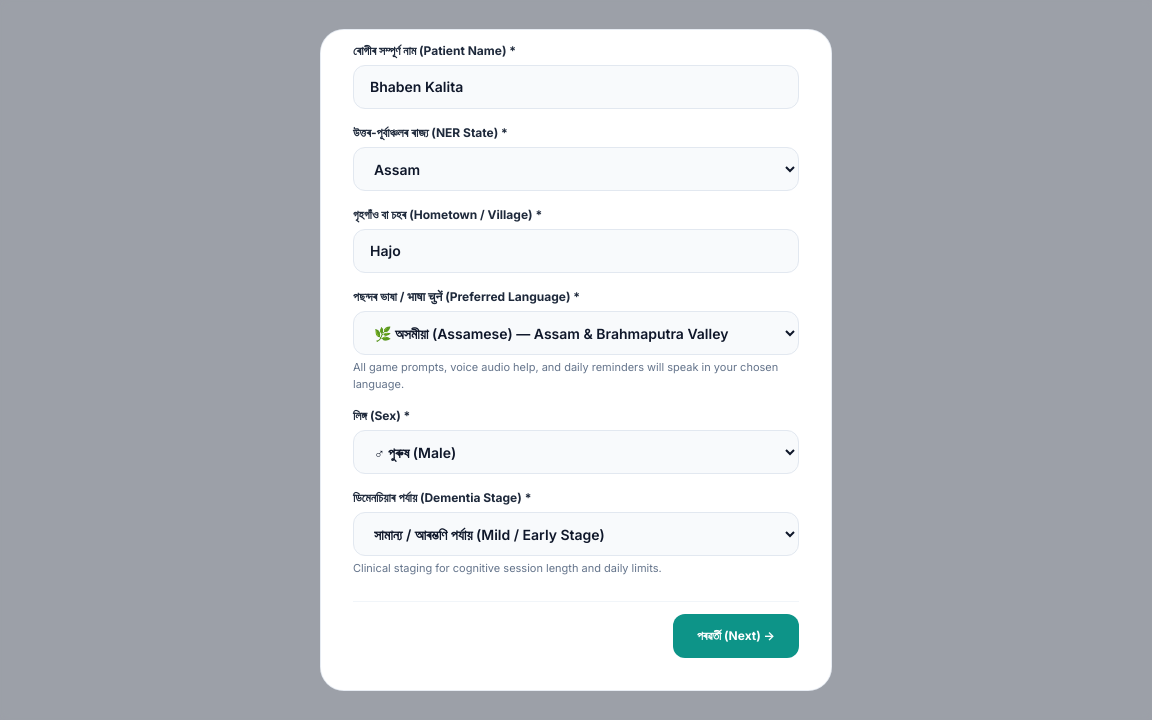
Test: Navigation Audit: Anti-Dead-End & Touch Target Compliance › 2. PatientOnboardingModal Multi-Step Navigation & State Preservation › Step navigation preserves entered form data across backward and forward movement
The image size is (1152, 720).
(page scrolled)
Expected: the field labelled "ৰোগীৰ সম্পূৰ্ণ নাম (Patient Name) *" holds "Bhaben Kalita", x1=353 y1=65 x2=799 y2=109
Note: Move forward to Step 2
Click the button "পৰৱৰ্তী (Next) →" at (736, 636), box x1=673 y1=614 x2=799 y2=658
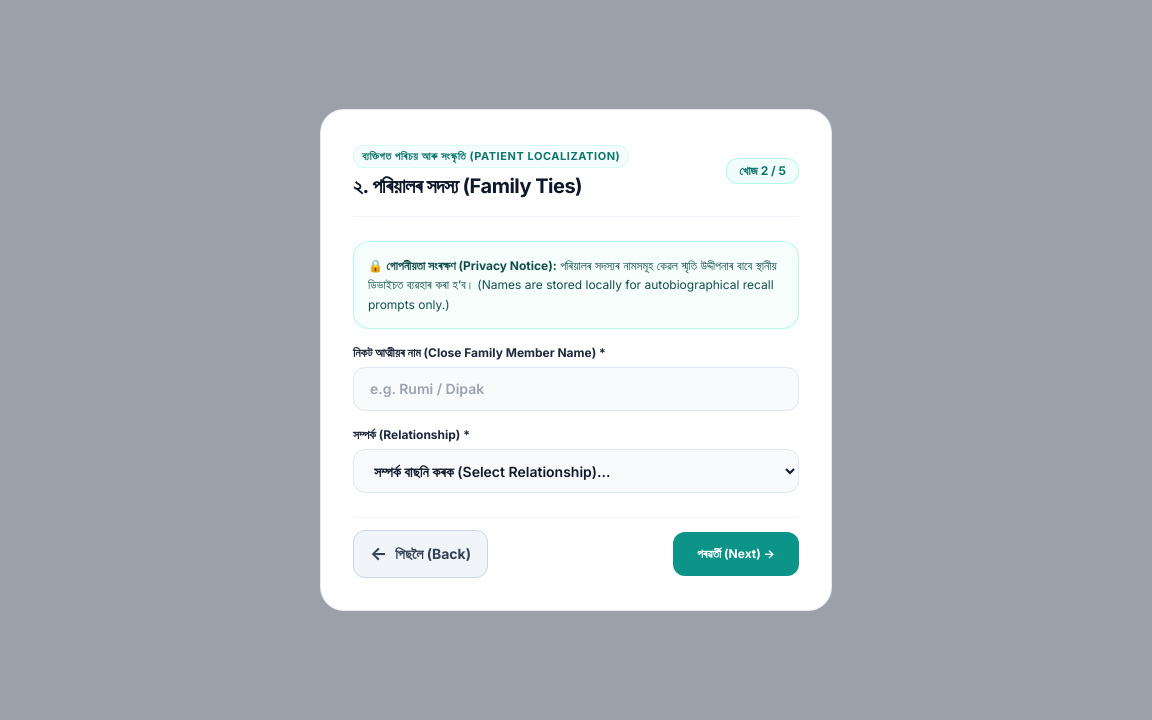
Expected: the heading "২. পৰিয়ালৰ সদস্য (Family Ties)" is shown, x1=353 y1=174 x2=582 y2=198
Note: Enter data in Step 2
Type "Rumi Kalita" into the field labelled "নিকট আত্মীয়ৰ নাম (Close Family Member Name) *" at (576, 389), box x1=353 y1=367 x2=799 y2=411
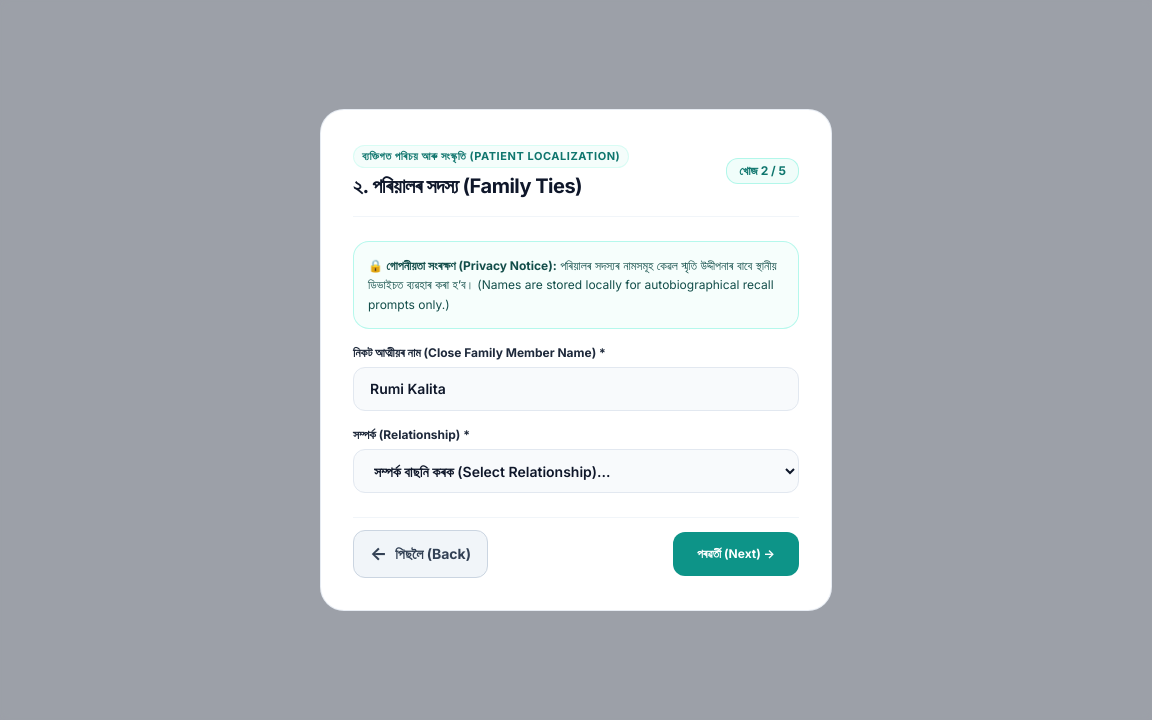
Click the button with aria-label "Go back" at (420, 554), box x1=353 y1=530 x2=488 y2=578
(page scrolled)
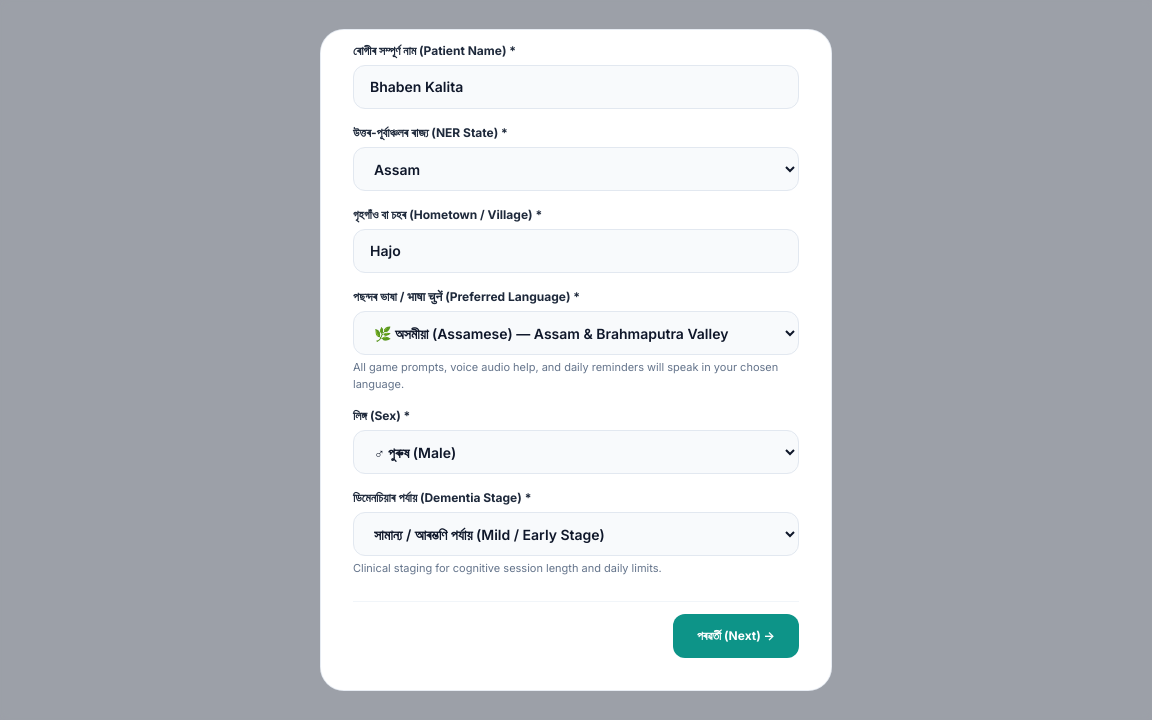
Expected: the field labelled "ৰোগীৰ সম্পূৰ্ণ নাম (Patient Name) *" holds "Bhaben Kalita", x1=353 y1=65 x2=799 y2=109
Note: Return to Step 2: Step 2 data is preserved
Click the button "পৰৱৰ্তী (Next) →" at (736, 636), box x1=673 y1=614 x2=799 y2=658
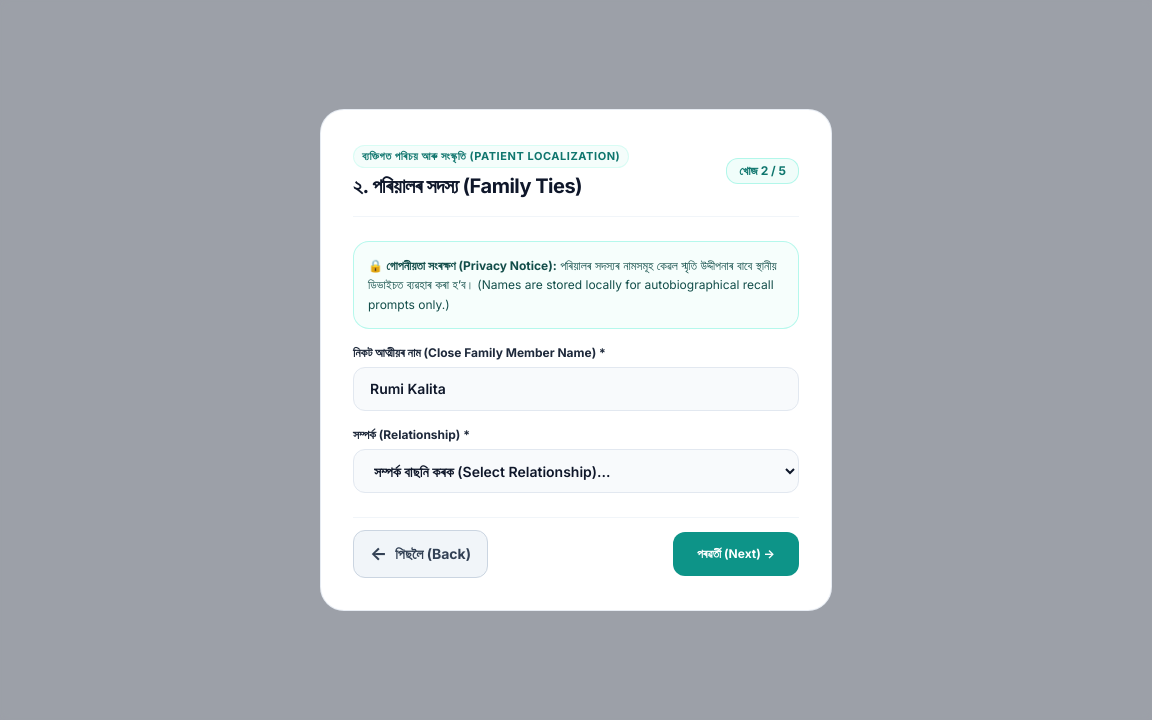
Expected: the heading "২. পৰিয়ালৰ সদস্য (Family Ties)" is shown, x1=353 y1=174 x2=582 y2=198
Expected: the field labelled "নিকট আত্মীয়ৰ নাম (Close Family Member Name) *" holds "Rumi Kalita", x1=353 y1=367 x2=799 y2=411
